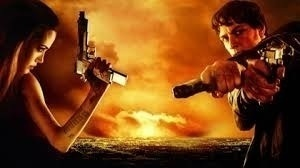pistol: (71, 11, 115, 101), (171, 78, 223, 110)
